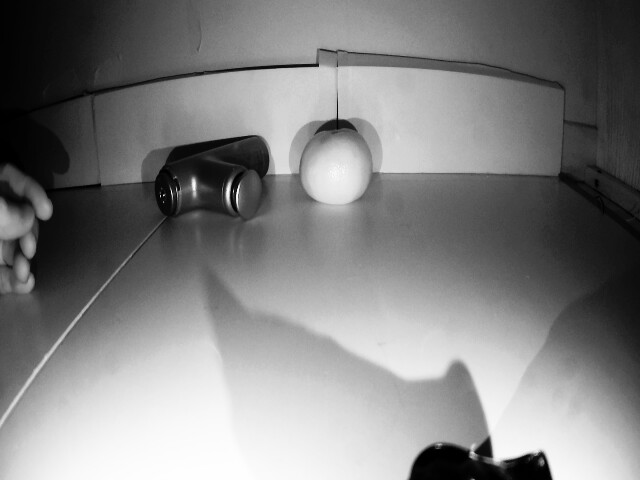black: (400, 425, 569, 480)
